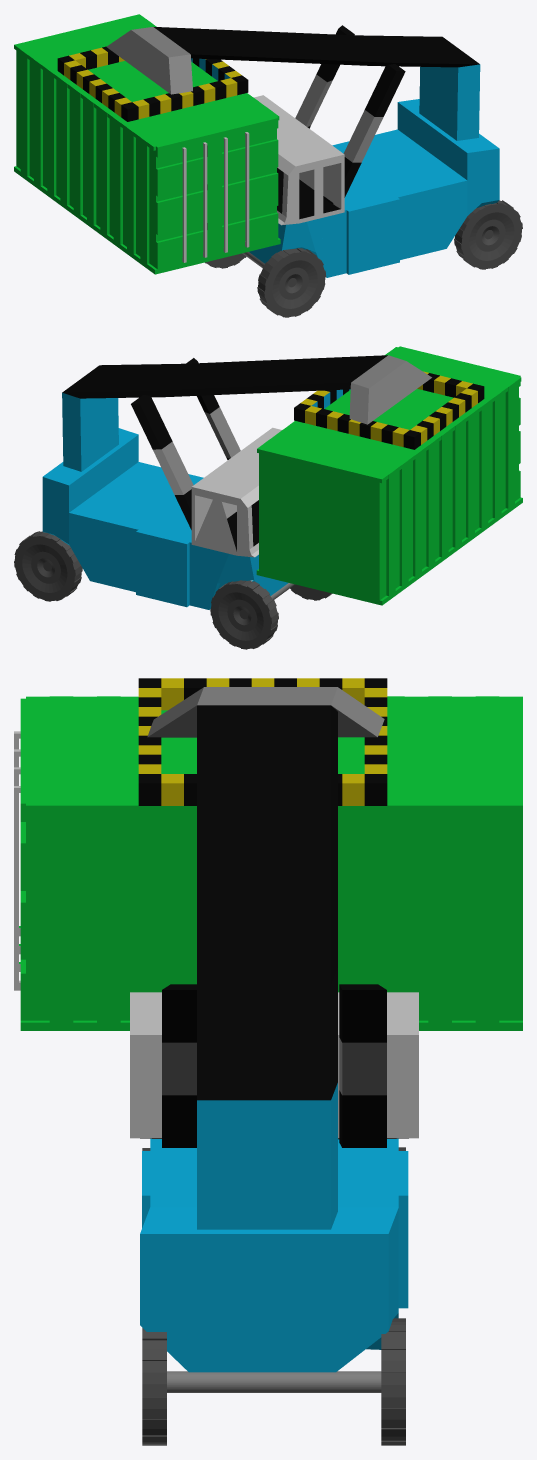
The model's file is reach-stacker.lod0.glb.
The picture shows the model from 3 angles, top to bottom: view 1: azimuth 30°, elevation 25°; view 2: azimuth 150°, elevation 25°; view 3: azimuth 270°, elevation 25°; orthographic projection. The views are drawn at different scales.
Visible parts, largest first — view 1: Cube_Material_0, Cube_Material.006_0; view 2: Cube_Material_0, Cube_Material.006_0; view 3: Cube_Material_0, Cube_Material.006_0.
Boxes of the visible parts, box(x1,y1,x2,y2) form: Cube_Material_0: box(14, 14, 499, 277); Cube_Material.006_0: box(205, 200, 522, 317); Cube_Material_0: box(42, 346, 522, 609); Cube_Material.006_0: box(14, 531, 332, 649); Cube_Material_0: box(14, 678, 522, 1392); Cube_Material.006_0: box(142, 1147, 405, 1445).
Size of the model in its own units: 12 by 7.8 by 7.39.
